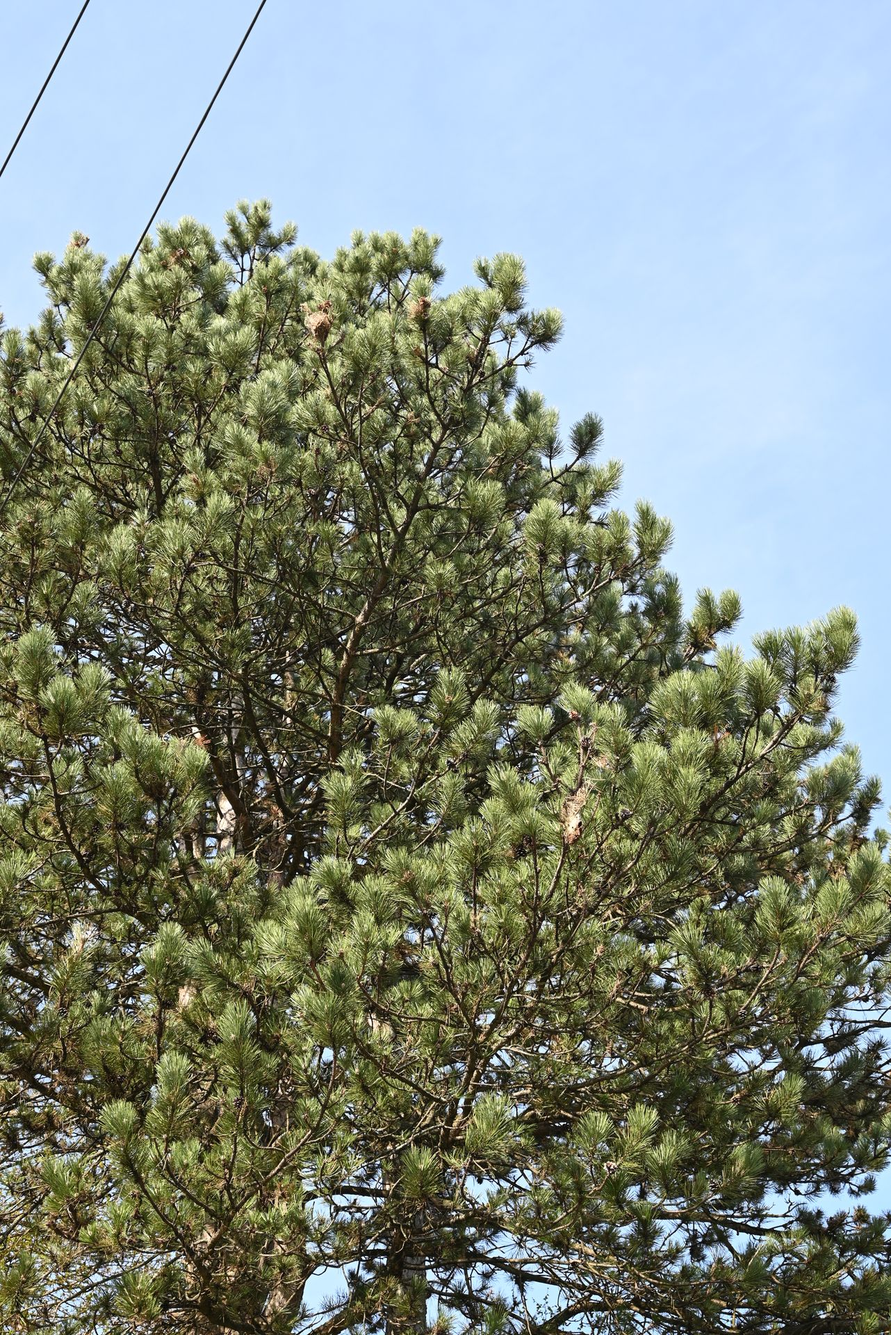thaumatopoea pityocampa jajno gnijezdo: (562, 778, 589, 849), (401, 287, 435, 333), (303, 306, 337, 346), (169, 981, 203, 1018), (70, 922, 100, 957)
